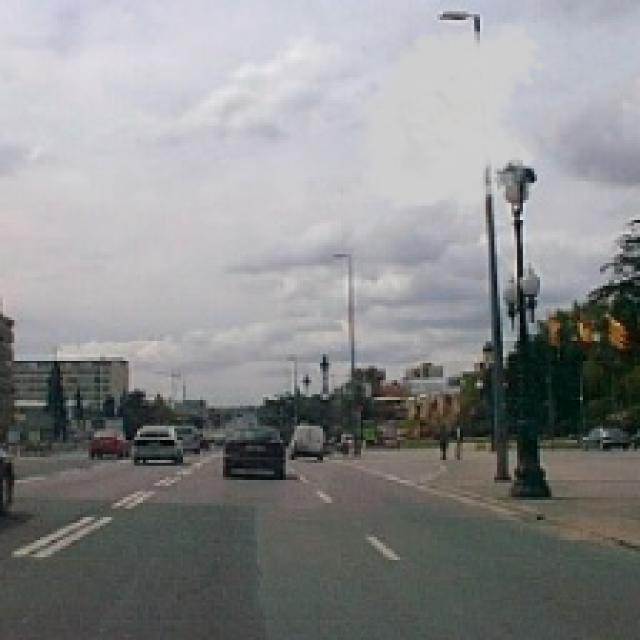Smoke: (341, 20, 548, 223)
